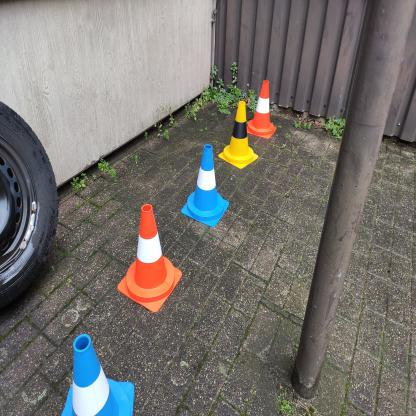Cones_small_blue: (52, 334, 140, 416), (178, 139, 233, 236)
Cones_small_orange: (113, 196, 192, 316), (247, 77, 282, 141)
Cones_small_yellow: (224, 99, 262, 175)
